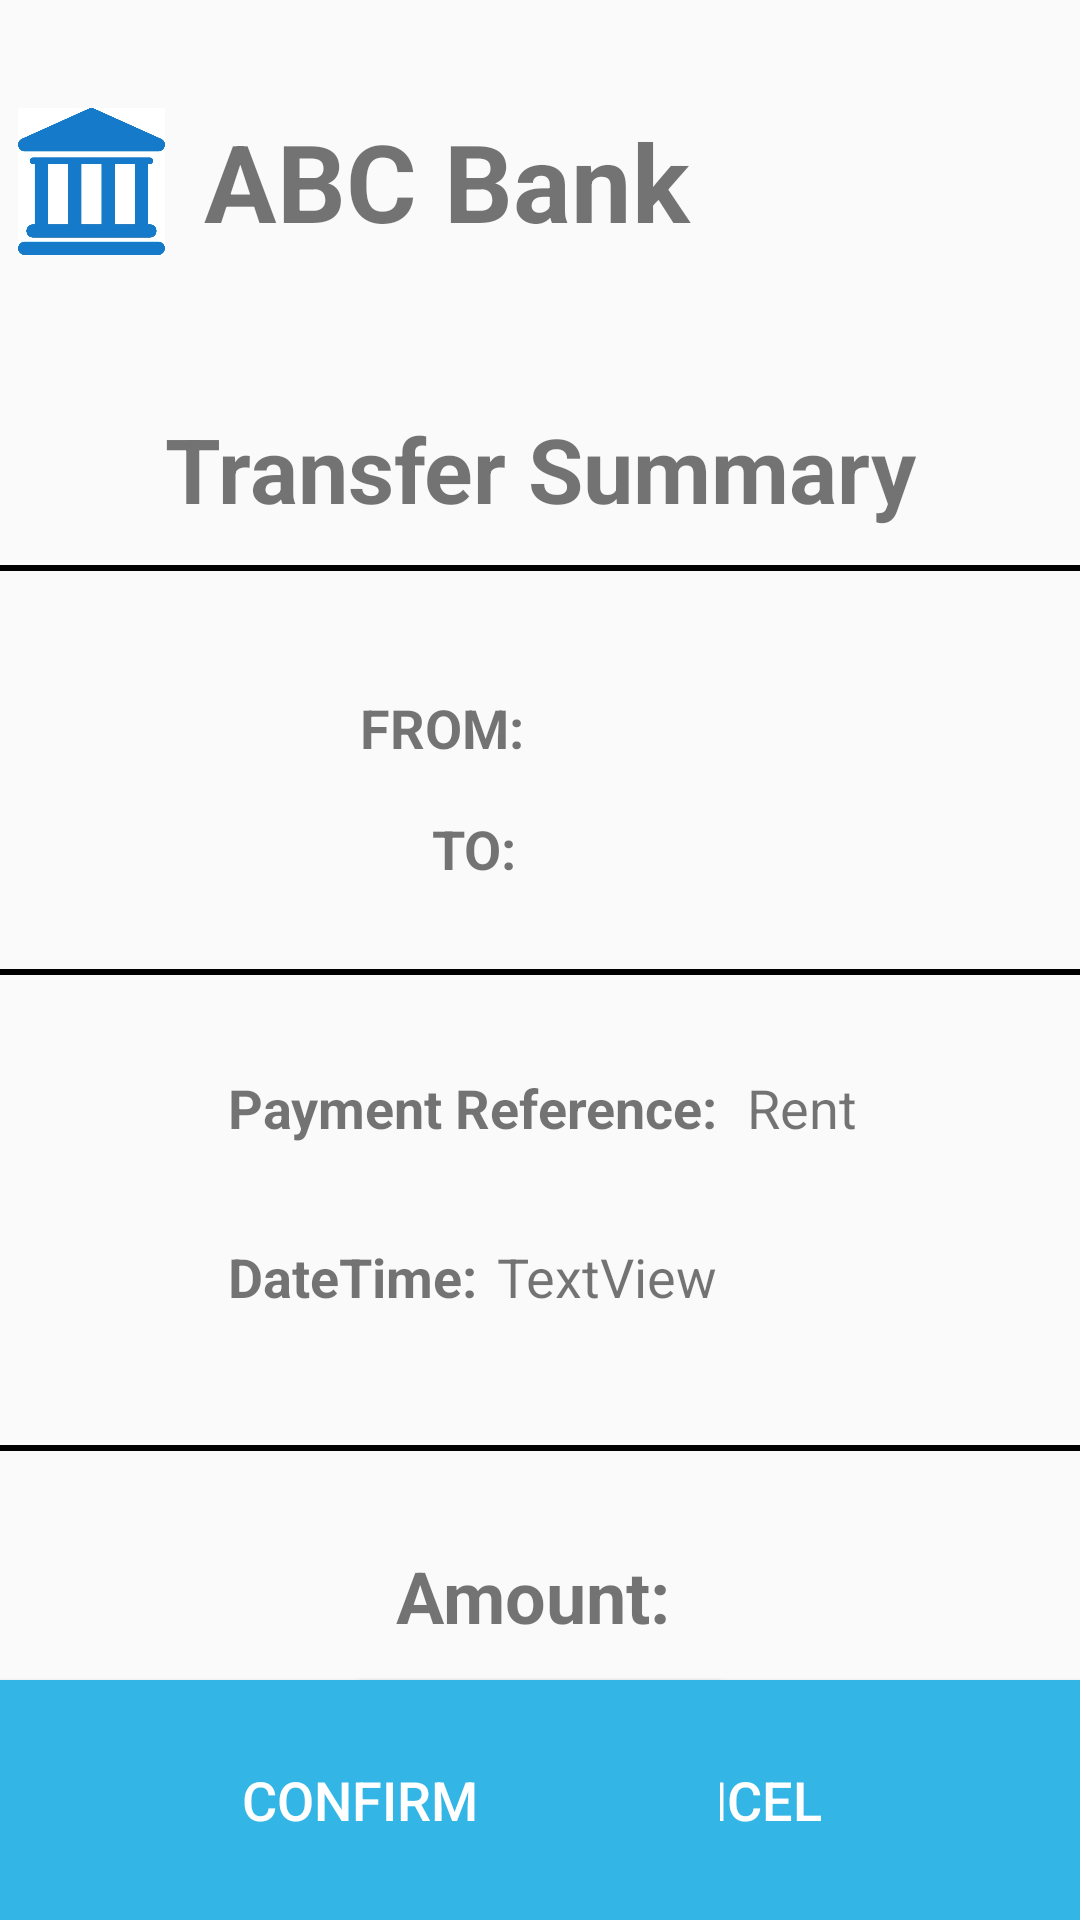

Icons on this 1080px x 1920px Android screen, each with the point to tap as [x,y]:
bankicon: [91,181]
